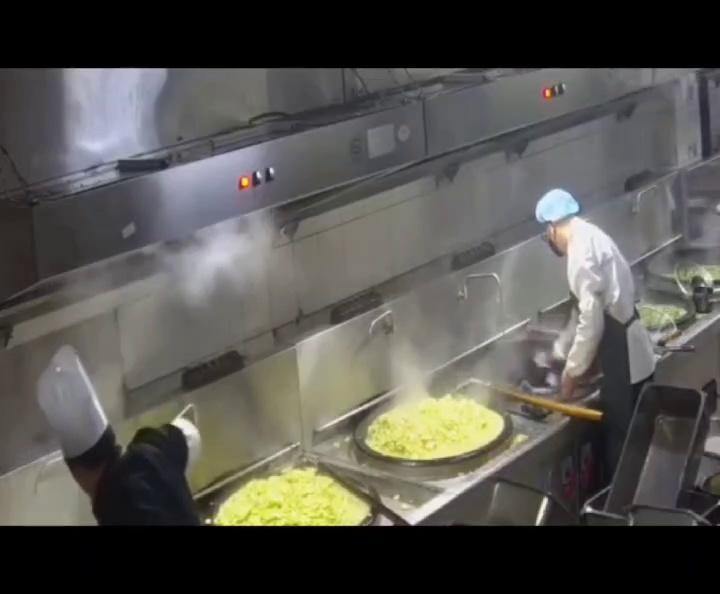gloves: (535, 188, 580, 223)
